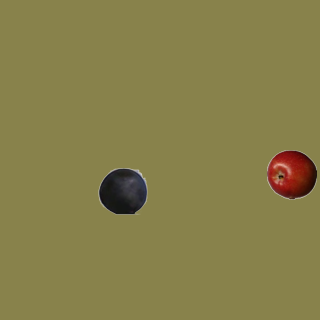Apple Braeburn: (266, 149, 316, 199)
Grape Blue: (97, 165, 147, 215)
